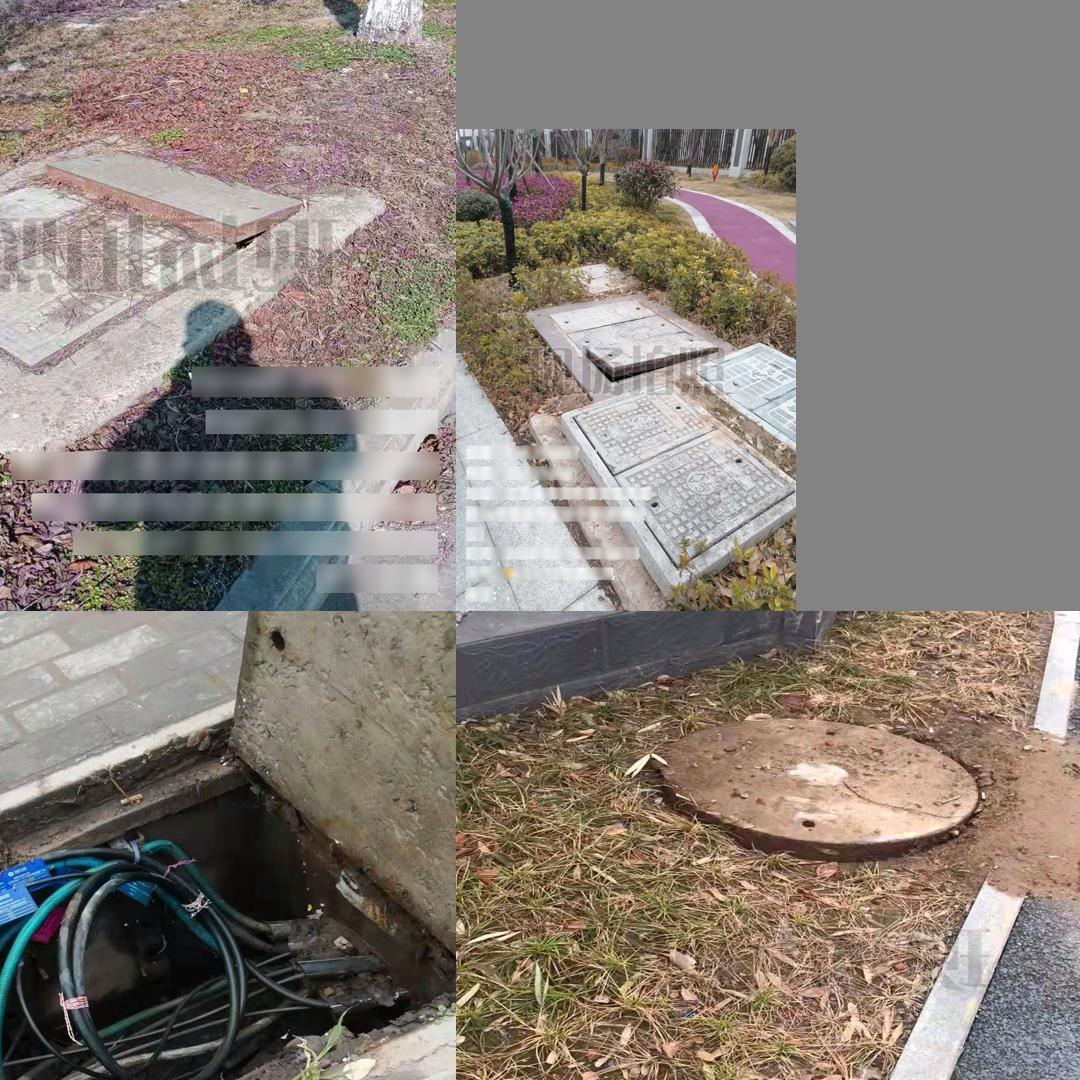good: (559, 378, 796, 597), (687, 342, 796, 451)
uncovered: (0, 614, 456, 1080), (0, 135, 309, 328), (658, 718, 981, 865), (546, 296, 722, 386)
